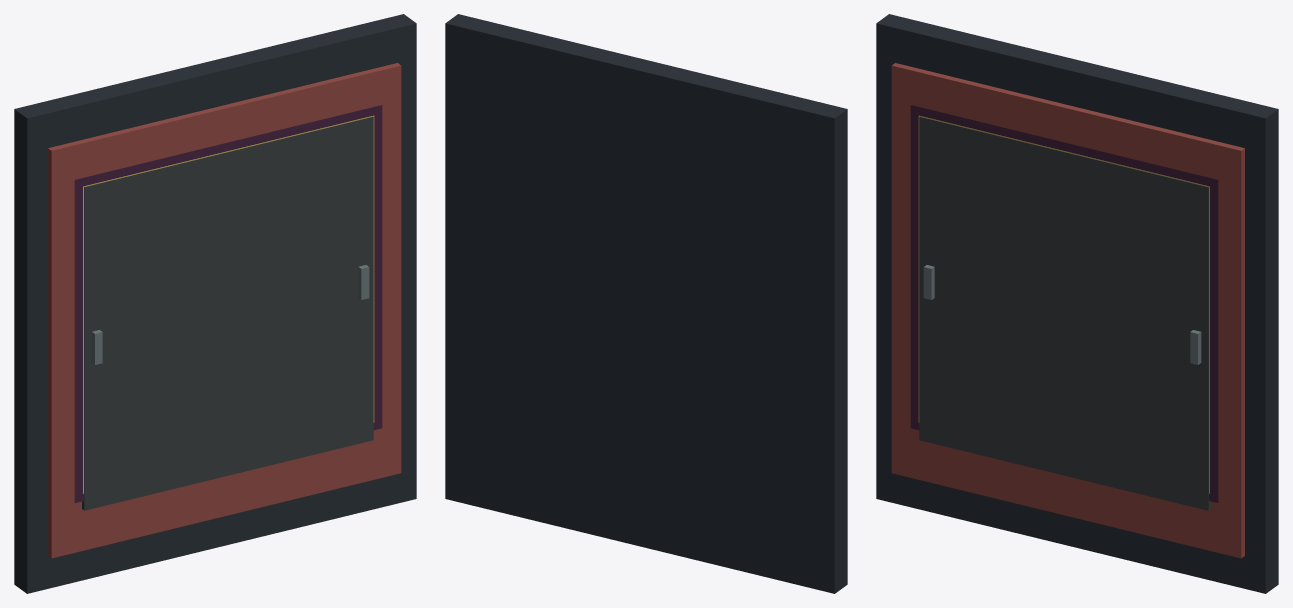
The model's file is dartboard.glb.
The picture shows the model from 3 angles, left to right: view 1: azimuth 30°, elevation 25°; view 2: azimuth 150°, elevation 25°; view 3: azimuth 330°, elevation 25°; orthographic projection.
Visible parts, largest first — view 1: body, door_left, door_right, printed_surface; view 2: body; view 3: body, door_right, door_left, printed_surface.
Part boxes in pixels (x1,y1,x2,y2): body: [14, 14, 416, 593]; door_left: [82, 149, 240, 510]; door_right: [217, 116, 373, 477]; printed_surface: [74, 105, 382, 502]; body: [445, 14, 847, 593]; body: [876, 14, 1278, 593]; door_right: [1052, 149, 1210, 510]; door_left: [919, 116, 1075, 477]; printed_surface: [910, 105, 1218, 502].
Bounding box in the file's own units: 0.588 × 0.686 × 0.0601.
Materials: 2 (2 with a texture image).
